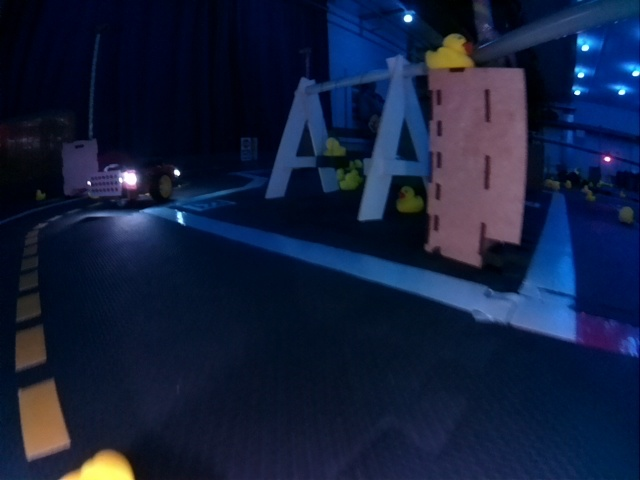Duckie: (425, 33, 474, 67), (396, 186, 422, 213), (323, 139, 344, 154), (35, 190, 45, 198)
Duckiebot: (88, 163, 180, 205)
